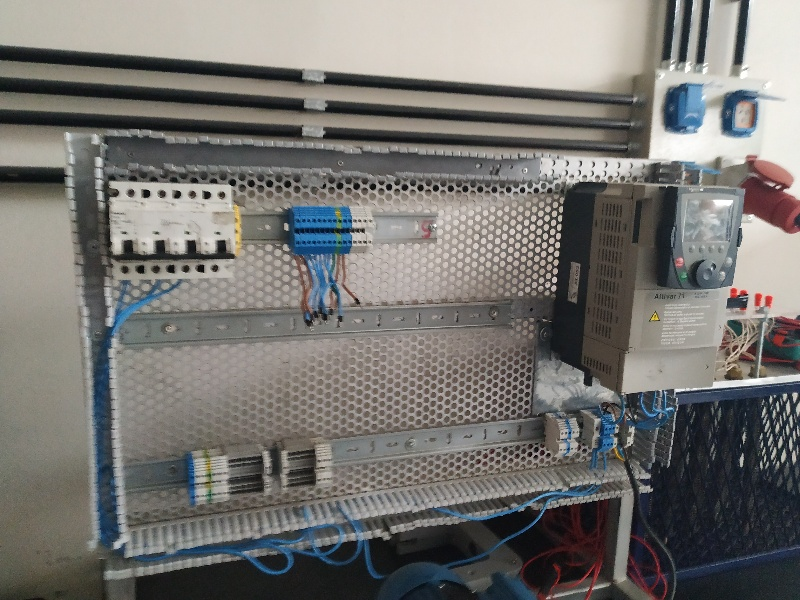Tablero 0: (94, 147, 743, 525)
